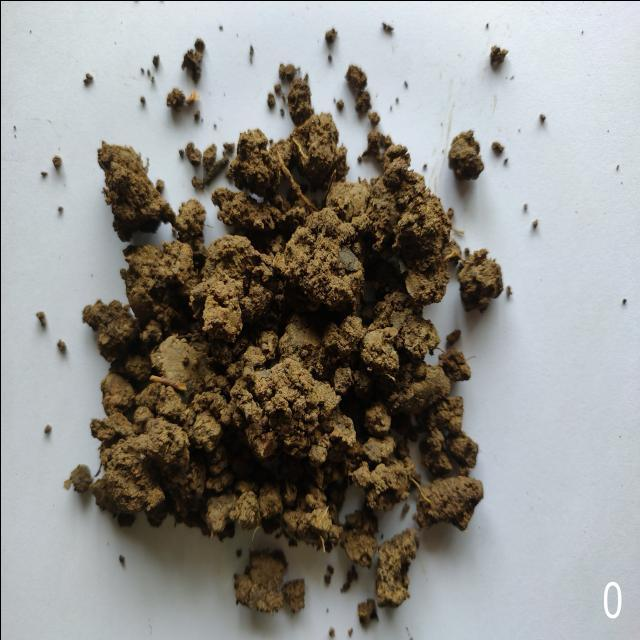soil: (162, 218, 436, 520)
